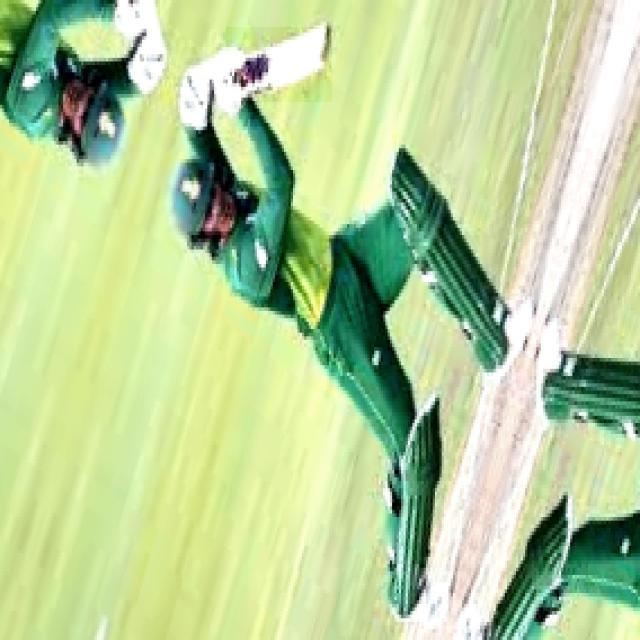bat: (234, 0, 333, 92)
toe: (321, 20, 333, 72)
